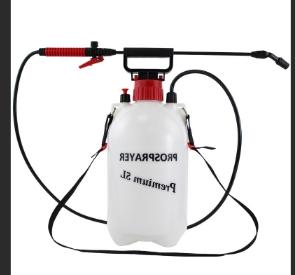PULVERISATEUR: (0, 18, 291, 275)
